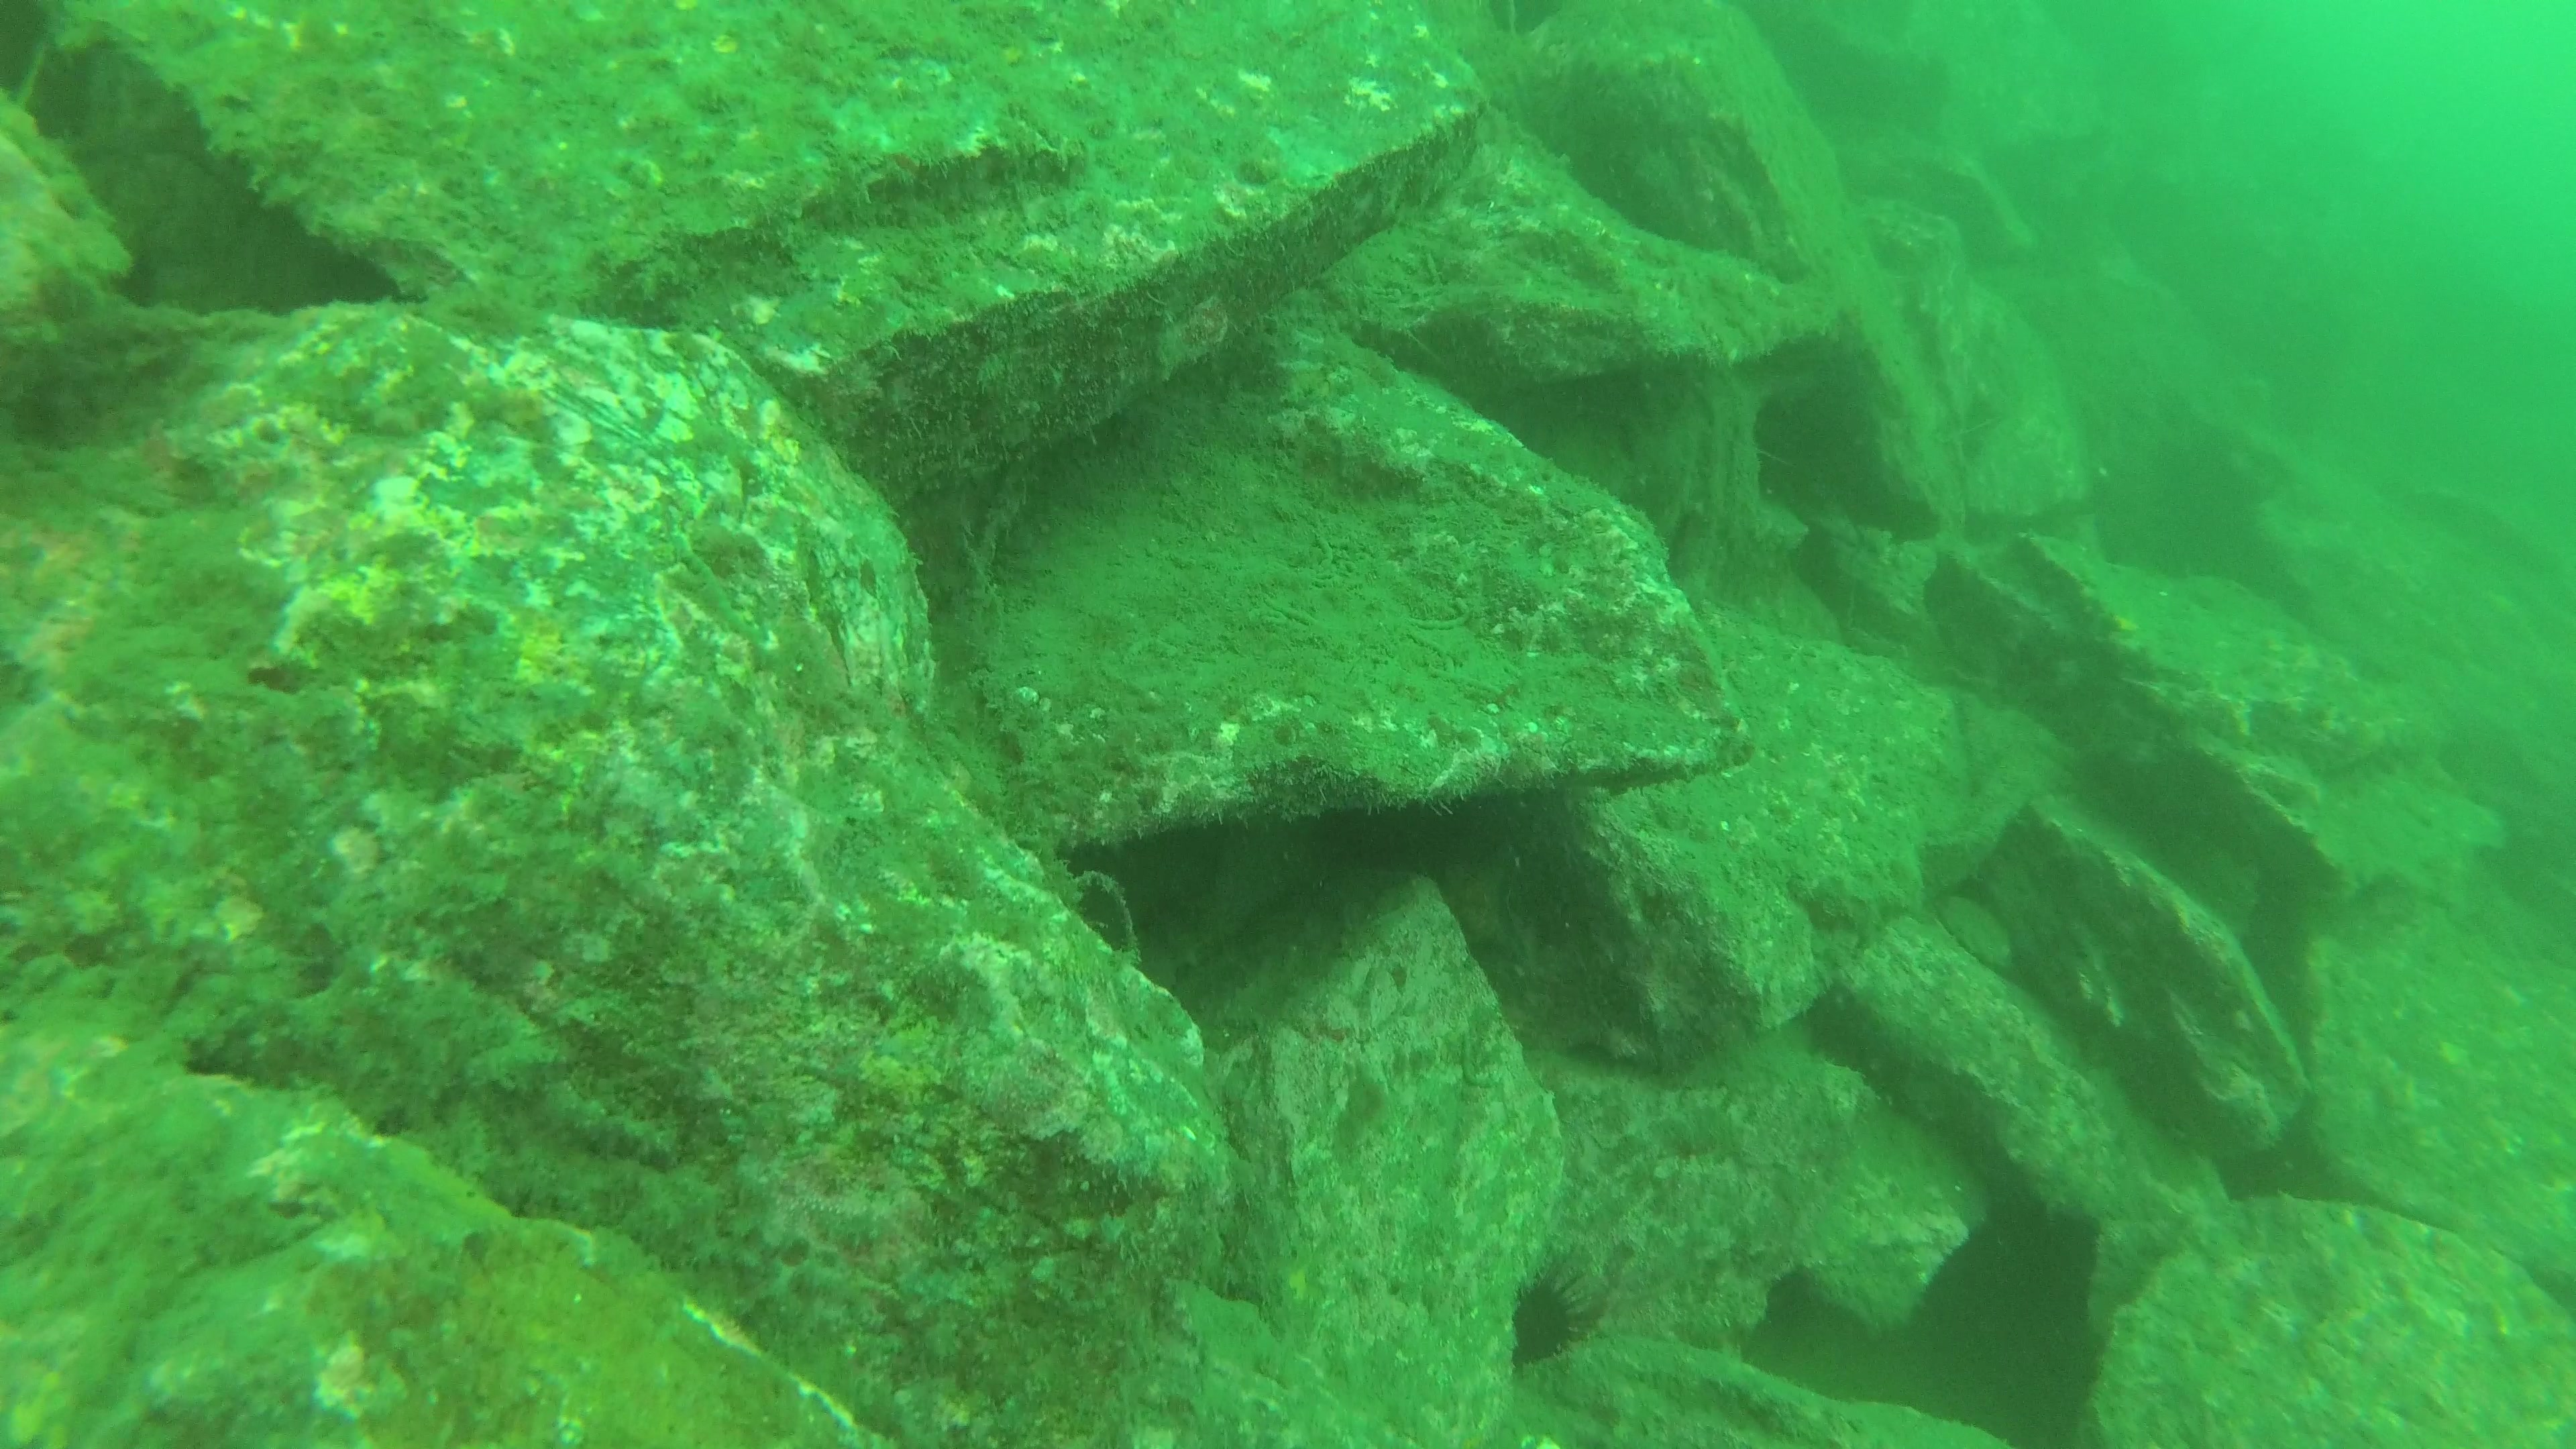echinus: (1507, 1263, 1599, 1387)
